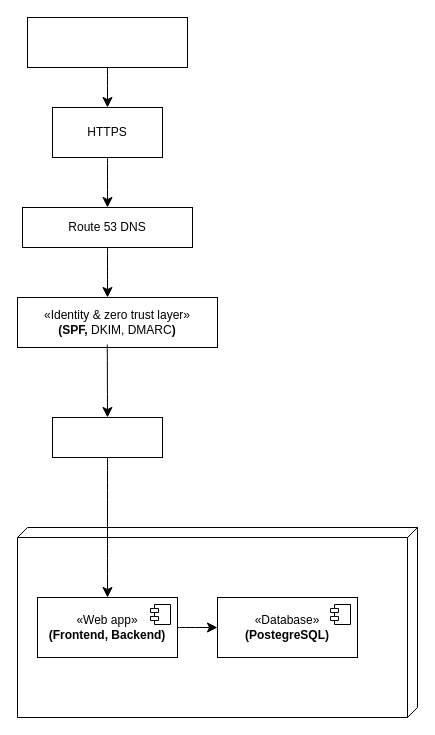
Some shapes in this 435 by 735 pixel diagram are drawn without their labels. Here are the shapes that lost their labels. From the top down, the box of each, then its label:
(26, 16, 188, 68): «Browser» Monitoring officer
(52, 416, 162, 458): WAF/Firewall
(16, 526, 418, 718): Web Server
